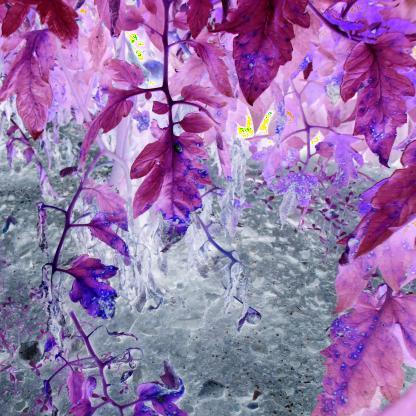Tomato Septoria leaf spot: (309, 286, 402, 416), (334, 40, 416, 170), (132, 124, 214, 249), (222, 3, 309, 113), (62, 252, 122, 322), (89, 218, 130, 256)
